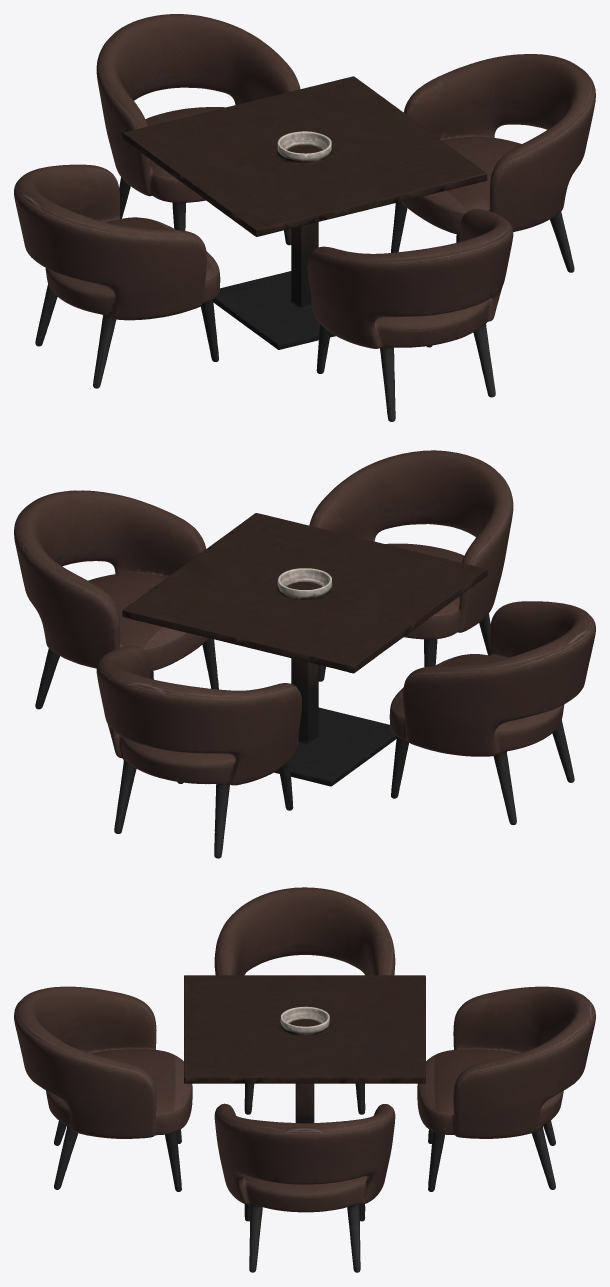
File: table.glb
The picture shows the model from 3 angles, top to bottom: view 1: azimuth 30°, elevation 25°; view 2: azimuth 150°, elevation 25°; view 3: azimuth 270°, elevation 25°; orthographic projection. The views are drawn at different scales.
Size of the model in its own units: 1.9 by 0.5801 by 1.9.
Materials: 1 (1 with a texture image).
